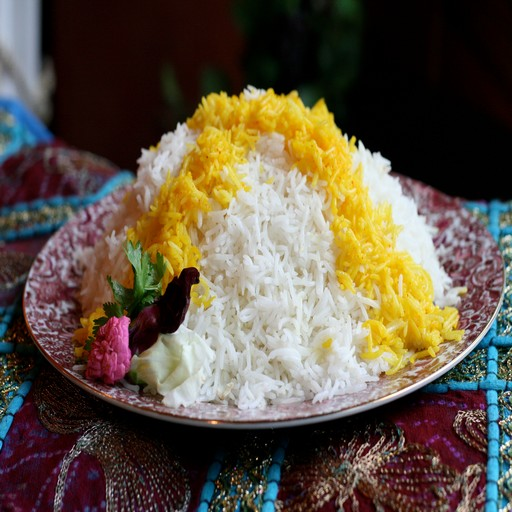rice: (215, 222, 337, 385)
